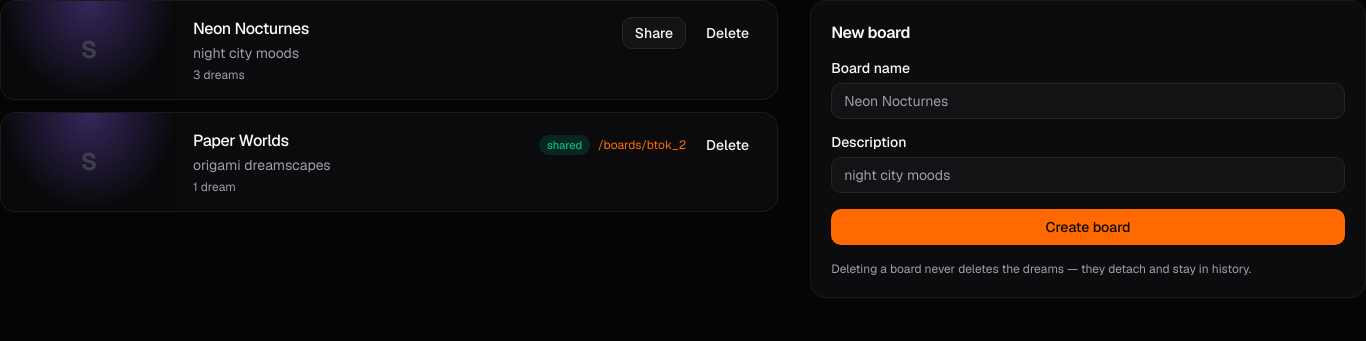
it: BoardsApp › creates a board: POST /api/boards with name + description, then refreshes
Expected: the heading "Neon Nocturnes" is shown, [193,17,309,41]
In the field labelled "Board name": (1088, 101) [831,83,1345,119], type "Tidal Studies"
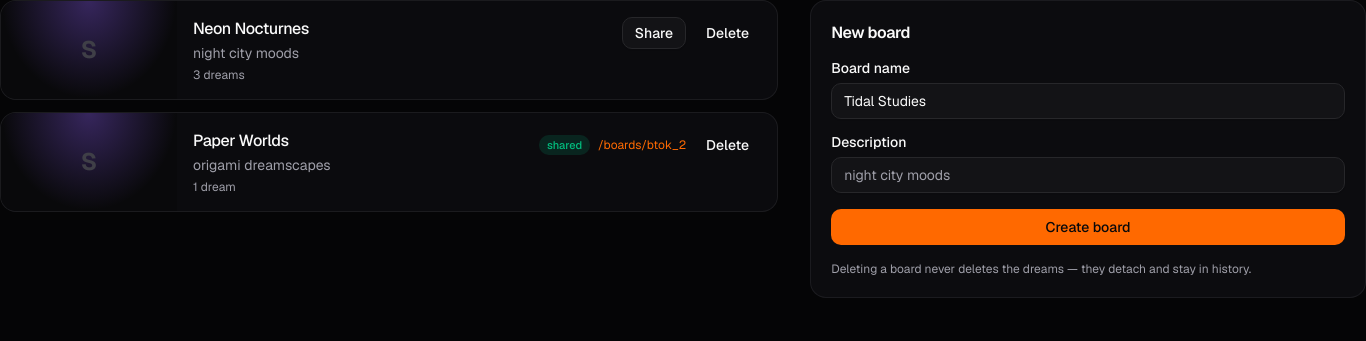
In the field labelled "Description": (1088, 175) [831,157,1345,193], type "slow water"
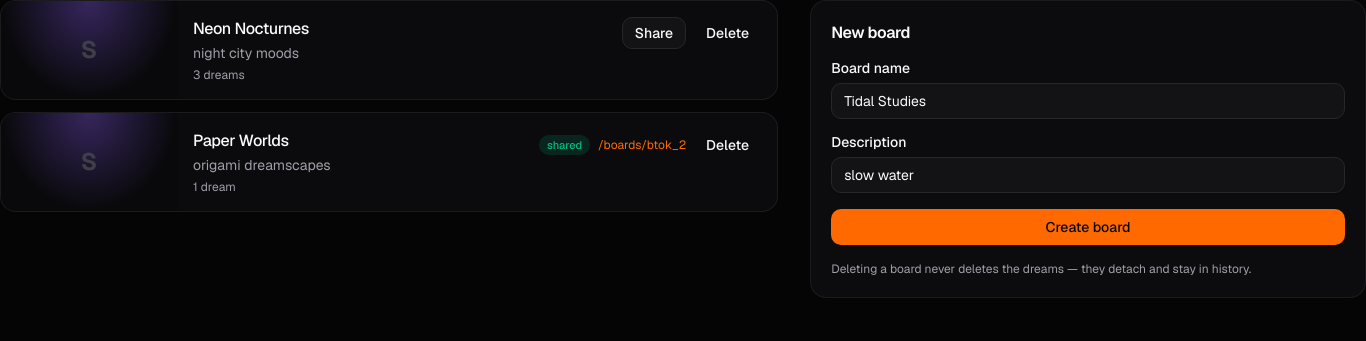
Click the button "Create board": (1088, 227) [831,209,1345,245]
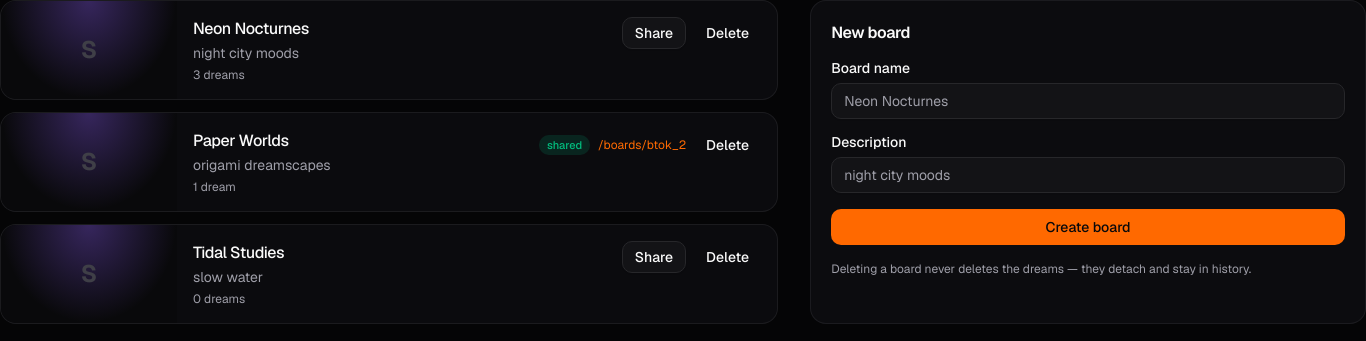
Now the heading "Tidal Studies" is shown, box [193,241,284,265]
